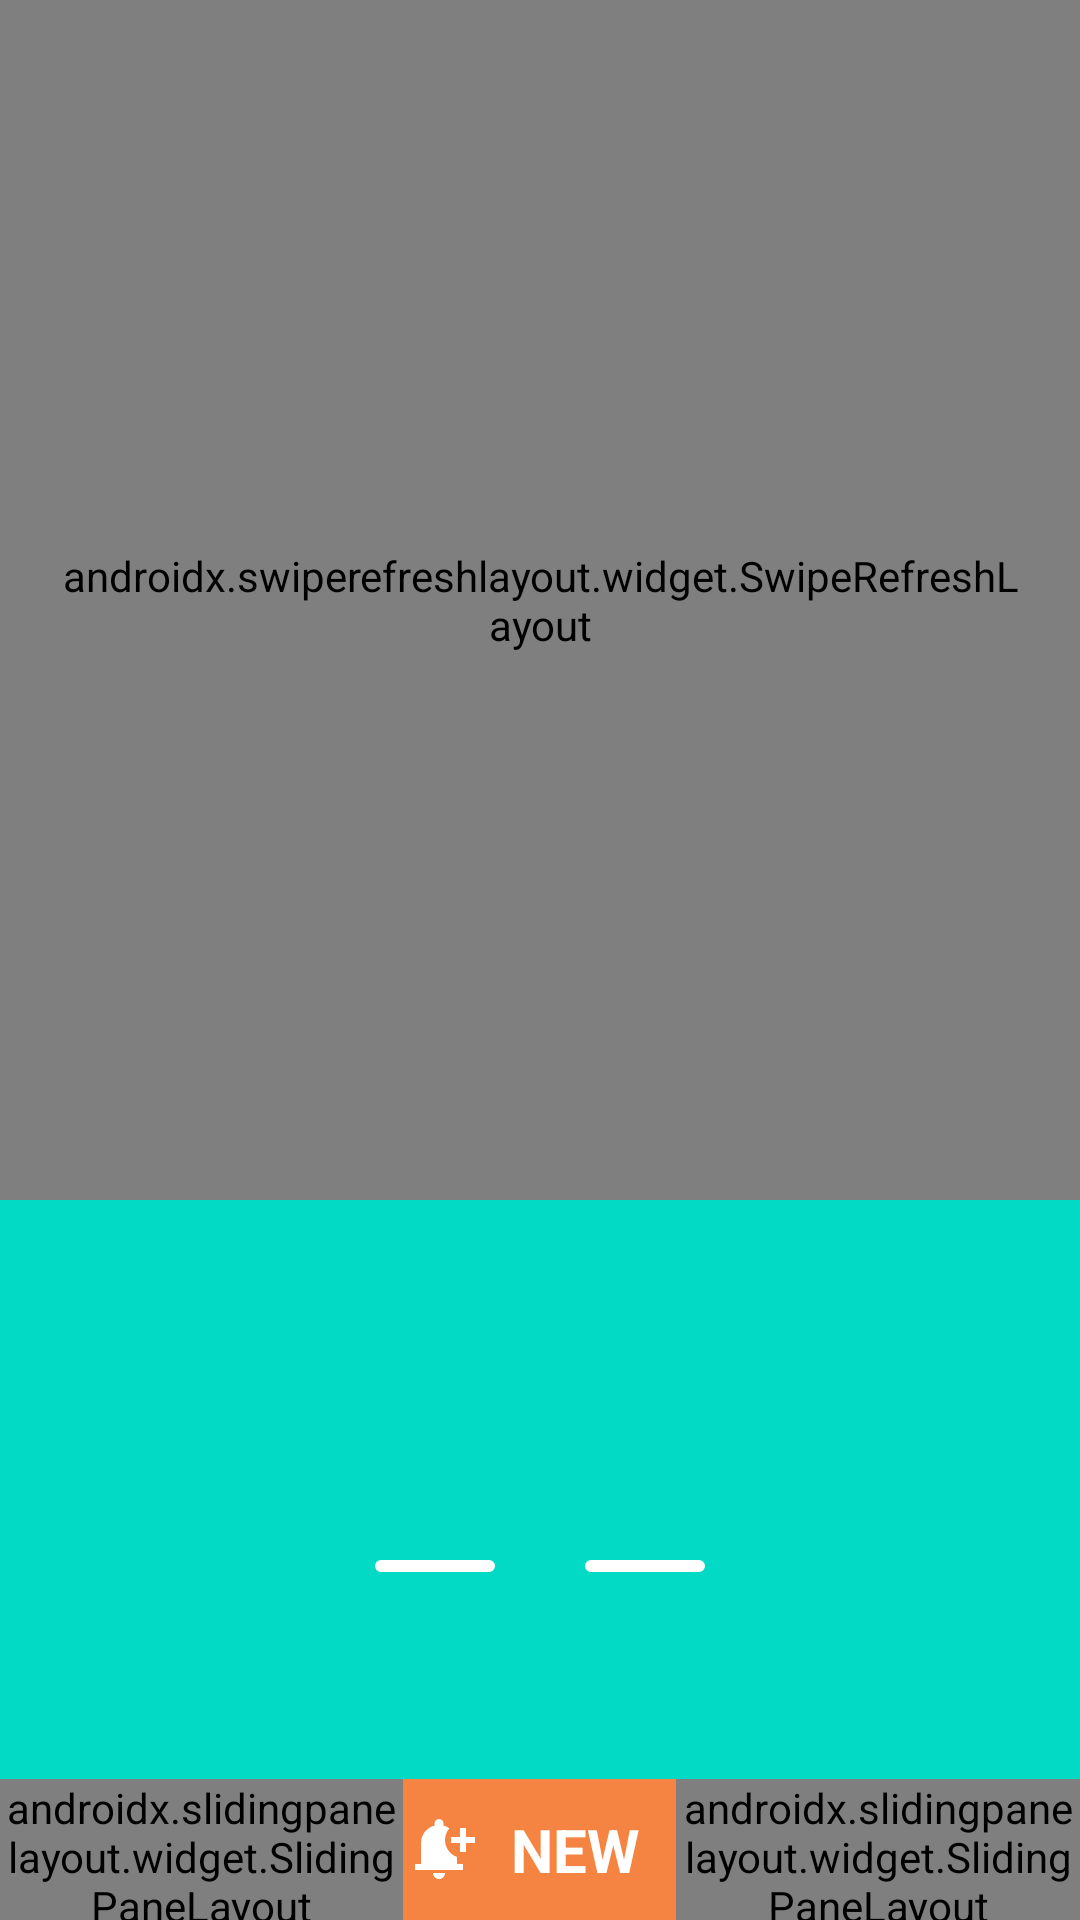

Screen size 1080px×1920px. Icon name, then its center in pixels as [x,y]:
notification add: [445,1849]
